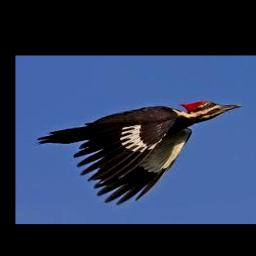Woodpecker: (36, 100, 242, 205)
